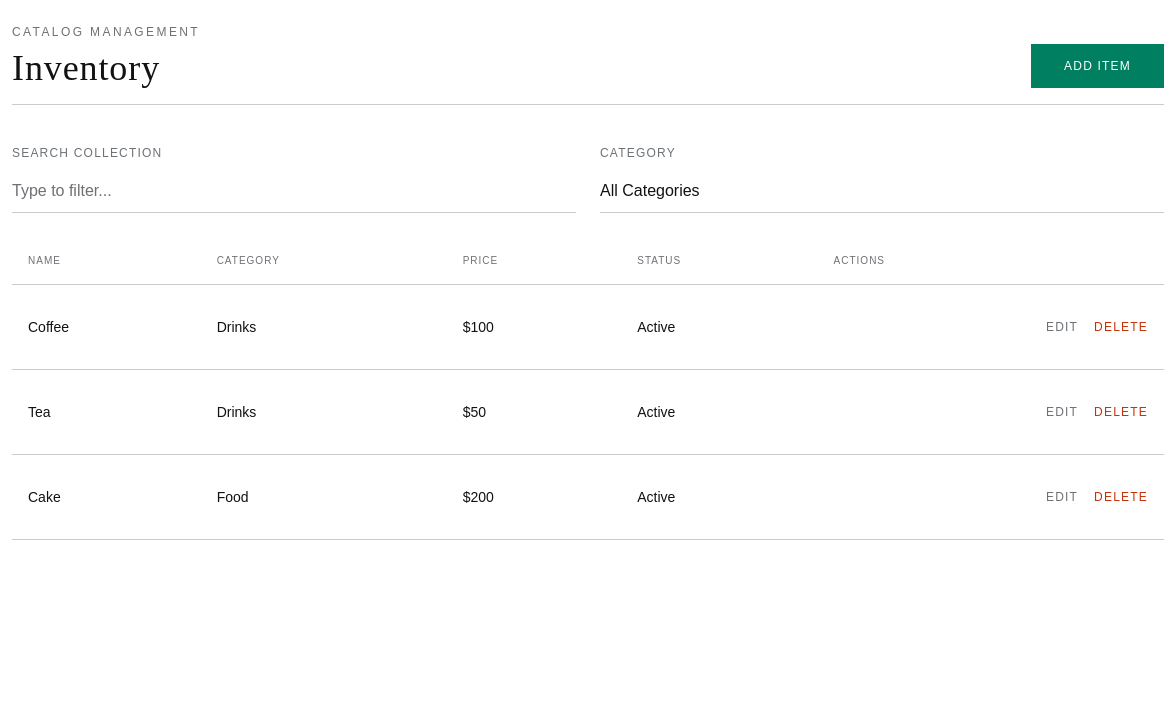
ProductsPage › filters products by search input (client-side)
Type "cof" into the field labelled "Search Collection" at (294, 191), box 12,169 -> 576,213
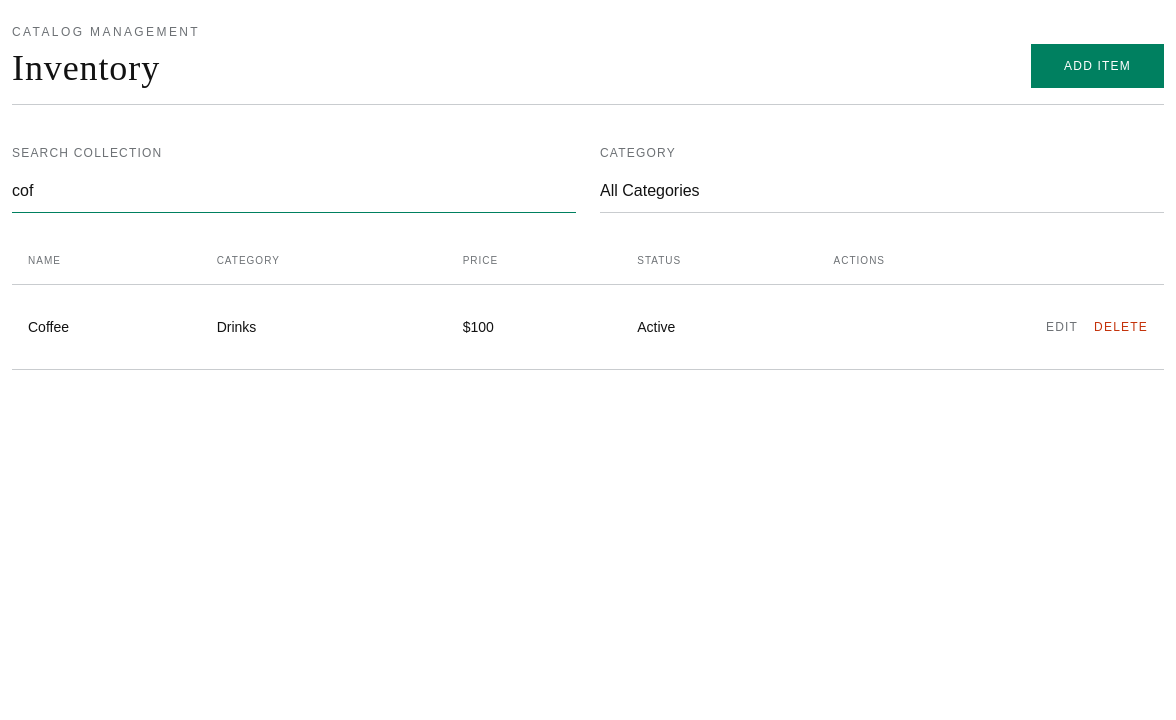
Check: the text "Coffee" is shown, box 12,284 -> 201,370
Check: the text "Tea" is gone
Check: the text "Cake" is gone
